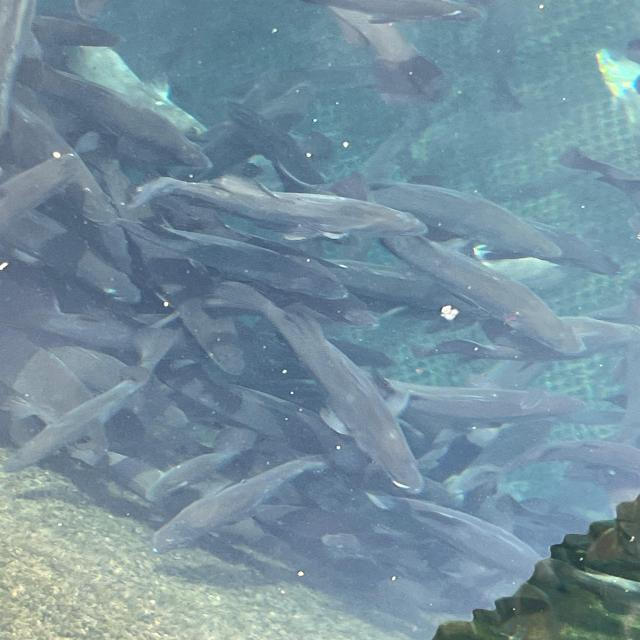ikan: (197, 280, 426, 493), (378, 232, 586, 355), (365, 180, 621, 277), (14, 55, 214, 176), (126, 171, 430, 243), (151, 453, 327, 555)
